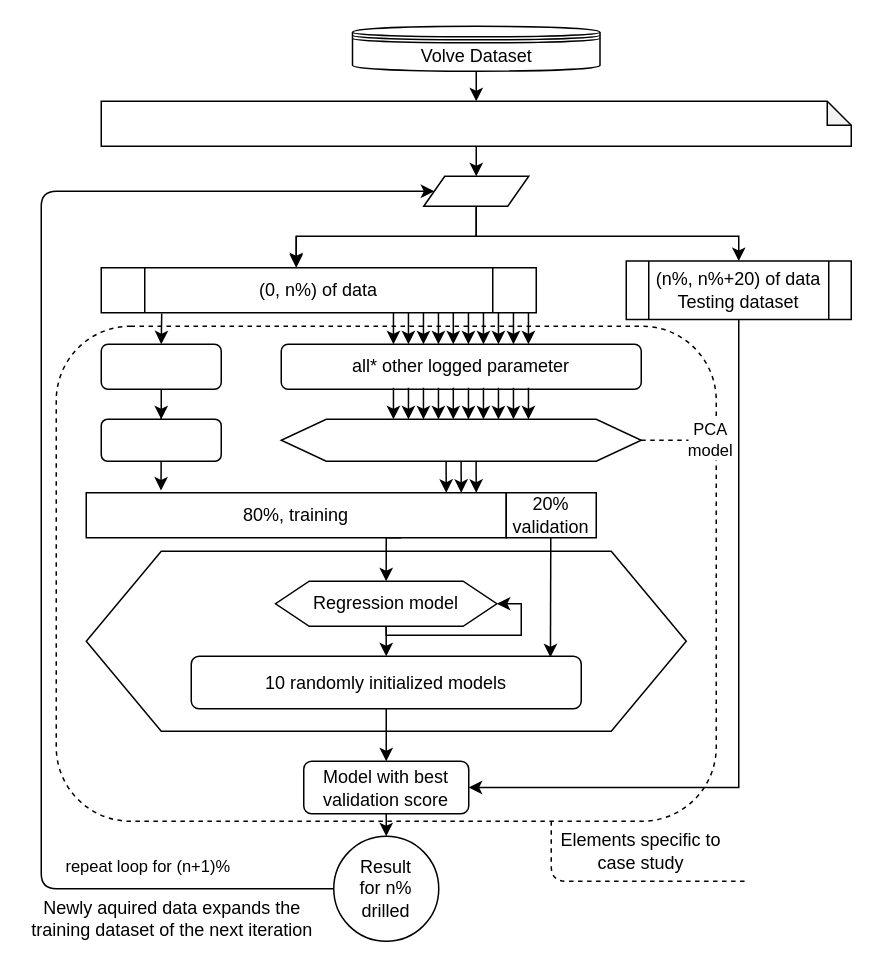
Some shapes in this 878 by 968 pixel diagram are drawn without their labels. Here are the shapes that lost their labels. From the top down, the box of each, then its label:
(100, 100, 851, 146): F9A well
(422, 175, 529, 206): n=15
(100, 343, 221, 389): inclination
(100, 418, 221, 461): Δ inclination
(280, 418, 641, 461): Principle Component Analysis
